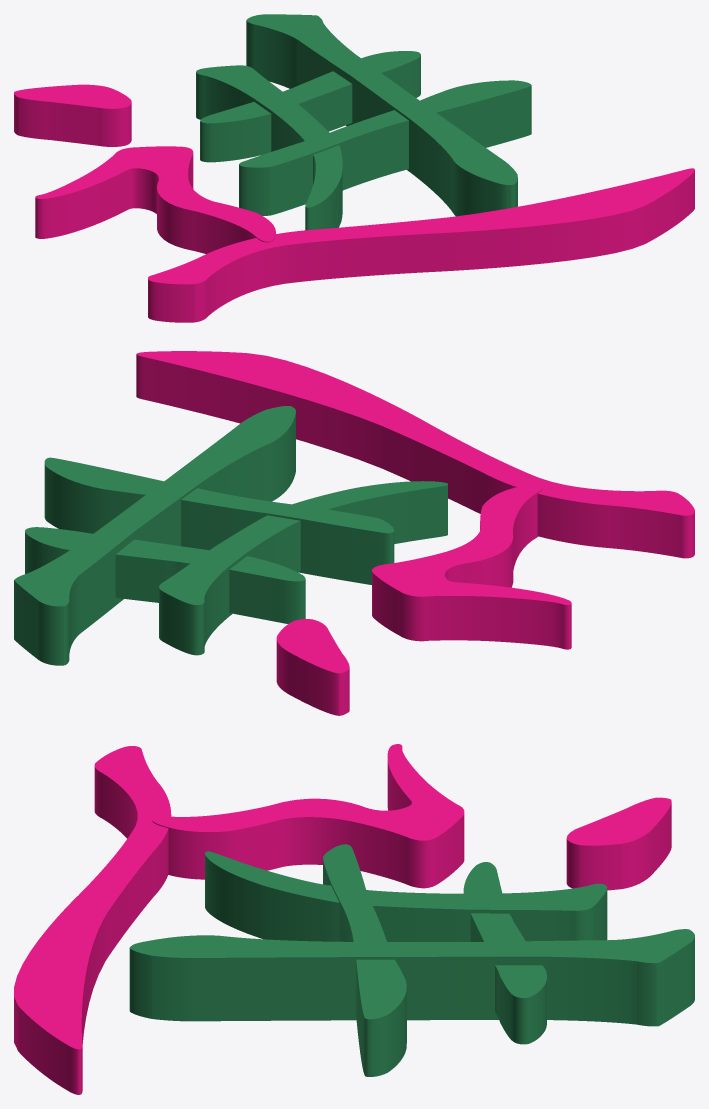
File: hanzi234.fbx
The picture shows the model from 3 angles, top to bottom: view 1: azimuth 30°, elevation 25°; view 2: azimuth 150°, elevation 25°; view 3: azimuth 270°, elevation 25°; orthographic projection. The views are drawn at different scales.
Parts seen in each view (by area): view 1: Curve.006, Curve.003, Curve.001, Curve.005, Curve.002, Curve, Curve.004; view 2: Curve.006, Curve.003, Curve.005, Curve.001, Curve.002, Curve, Curve.004; view 3: Curve.003, Curve.006, Curve.005, Curve.002, Curve.001, Curve.004, Curve.
Part boxes in pixels (box(x1,y1,x2,y2)): Curve.006: box(148, 168, 694, 322); Curve.003: box(246, 14, 517, 216); Curve.001: box(239, 80, 531, 215); Curve.005: box(35, 146, 275, 253); Curve.002: box(196, 65, 342, 230); Curve: box(200, 51, 420, 162); Curve.004: box(14, 84, 131, 146); Curve.006: box(136, 351, 694, 558); Curve.003: box(14, 406, 295, 665); Curve.005: box(372, 484, 571, 649); Curve.001: box(44, 457, 394, 584); Curve.002: box(159, 481, 447, 655); Curve: box(25, 527, 305, 623); Curve.004: box(276, 619, 349, 715); Curve.003: box(129, 929, 694, 1026); Curve.006: box(14, 746, 171, 1094); Curve.005: box(152, 744, 464, 888); Curve.002: box(205, 851, 607, 941); Curve.001: box(323, 844, 406, 1076); Curve.004: box(566, 797, 671, 890); Curve: box(463, 862, 546, 1044).
Bounding box in the file's own units: 24.34 × 23.02 × 2.36.
